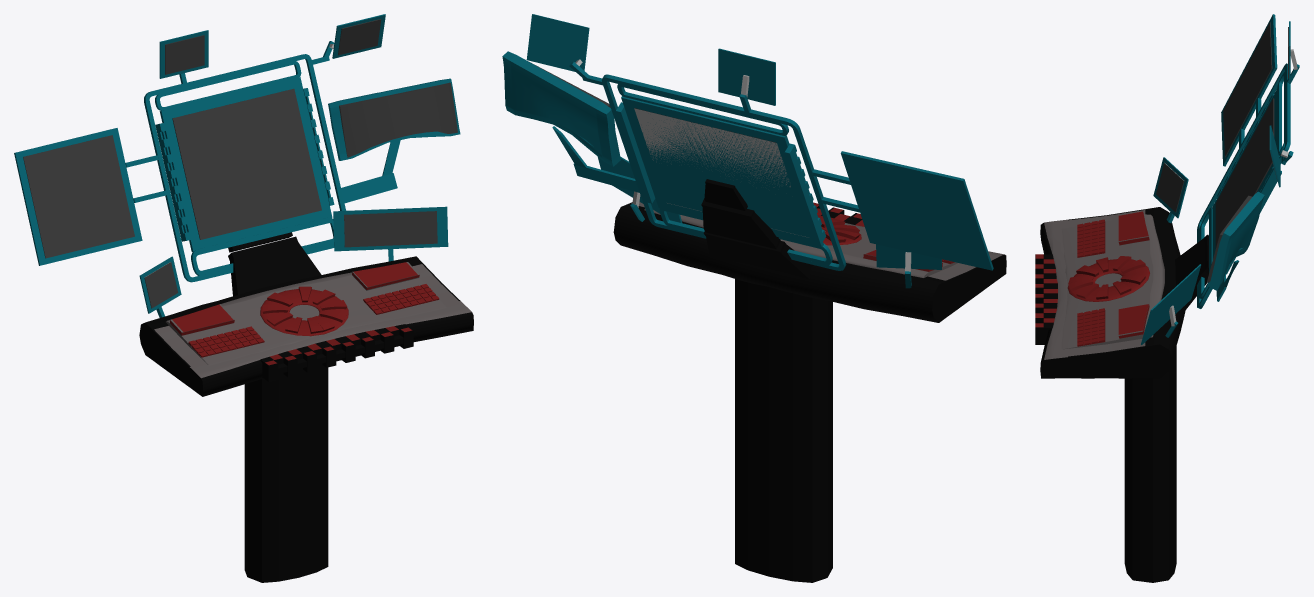
File: Computador.fbx
3 views of the same model, side by side, from view 1: azimuth 30°, elevation 25°; view 2: azimuth 150°, elevation 25°; view 3: azimuth 270°, elevation 25° (orthographic). The views are drawn at different scales.
Parts seen in each view (by area): view 1: pCylinder5; view 2: pCylinder5; view 3: pCylinder5.
Part boxes in pixels (x1=…): pCylinder5: x1=14, y1=14, x2=473, y2=582; pCylinder5: x1=502, y1=14, x2=1006, y2=582; pCylinder5: x1=1035, y1=14, x2=1299, y2=582.
Bounding box in the file's own units: 2.08 × 2.34 × 1.1.
